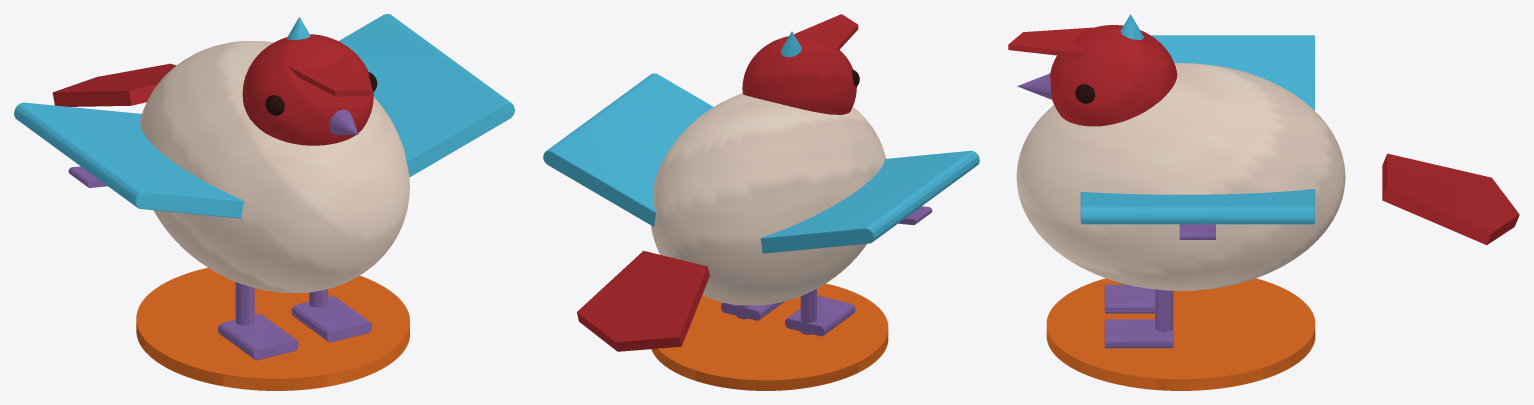
File: 0058_鸟类图鉴_火烈鸟.glb
3 views of the same model, side by side, from view 1: azimuth 30°, elevation 25°; view 2: azimuth 150°, elevation 25°; view 3: azimuth 270°, elevation 25° (orthographic). The views are drawn at different scales.
Parts seen in each view (by area): view 1: card_0058; view 2: card_0058; view 3: card_0058.
Part boxes in pixels (x1,y1,x2,y2): card_0058: [14, 14, 514, 390]; card_0058: [543, 14, 979, 390]; card_0058: [1008, 14, 1519, 390].
Size of the model in its own units: 1.19 by 1 by 1.44.
